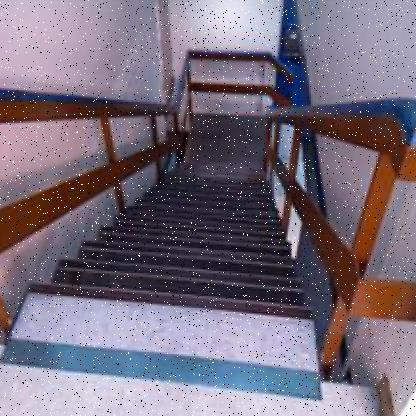stair_down: (22, 206, 307, 358)
